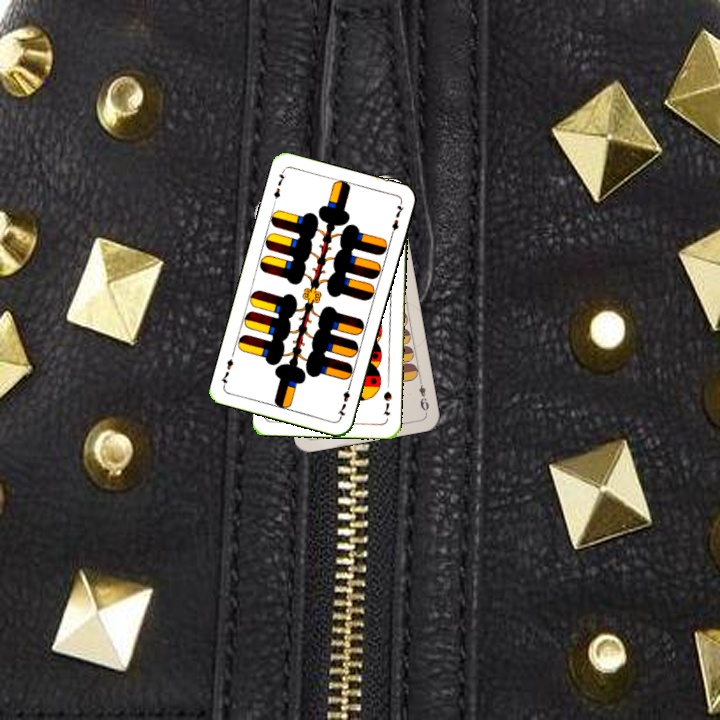E7: (333, 380, 353, 420), (270, 167, 288, 201)
E9: (415, 375, 431, 415)
S7: (379, 387, 394, 418)
